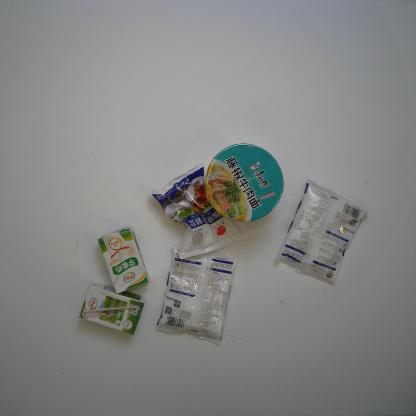Instant Noodles: (204, 143, 284, 222)
Milk: (78, 281, 146, 336), (98, 225, 150, 294)
Seasoner: (274, 178, 367, 284), (151, 160, 244, 260), (154, 243, 240, 346)
